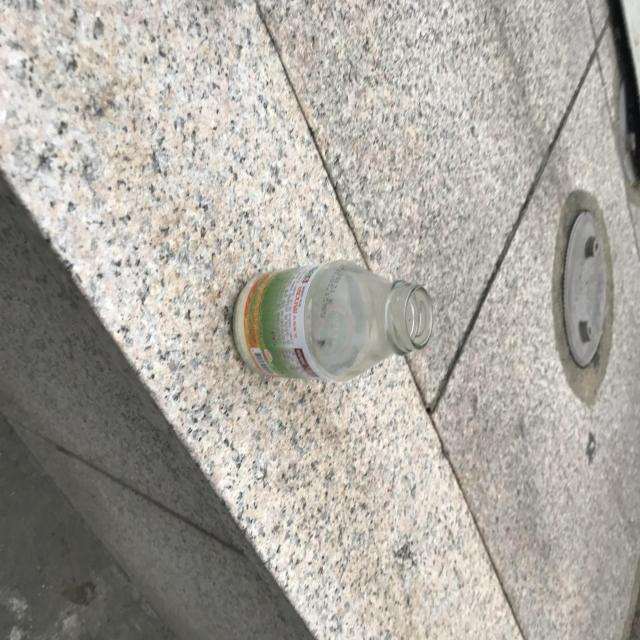glass: (233, 259, 433, 382)
